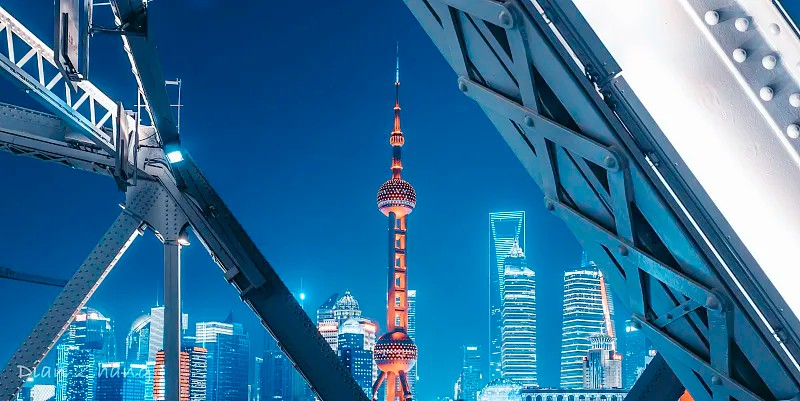Oriental: (374, 40, 418, 401)
